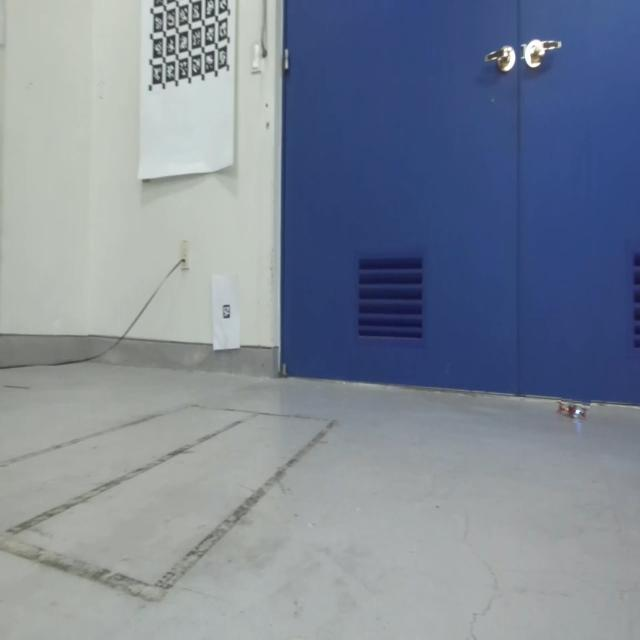crazyflie: (556, 395, 591, 423)
